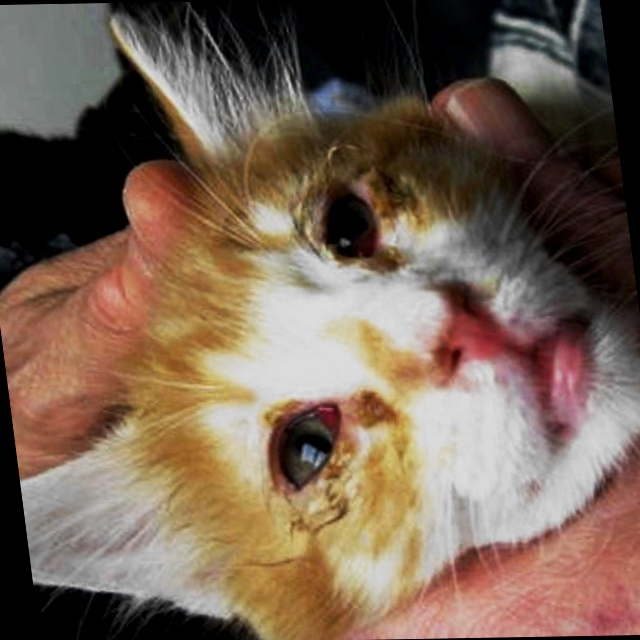eye_infection: (264, 401, 366, 498), (313, 185, 390, 263)
